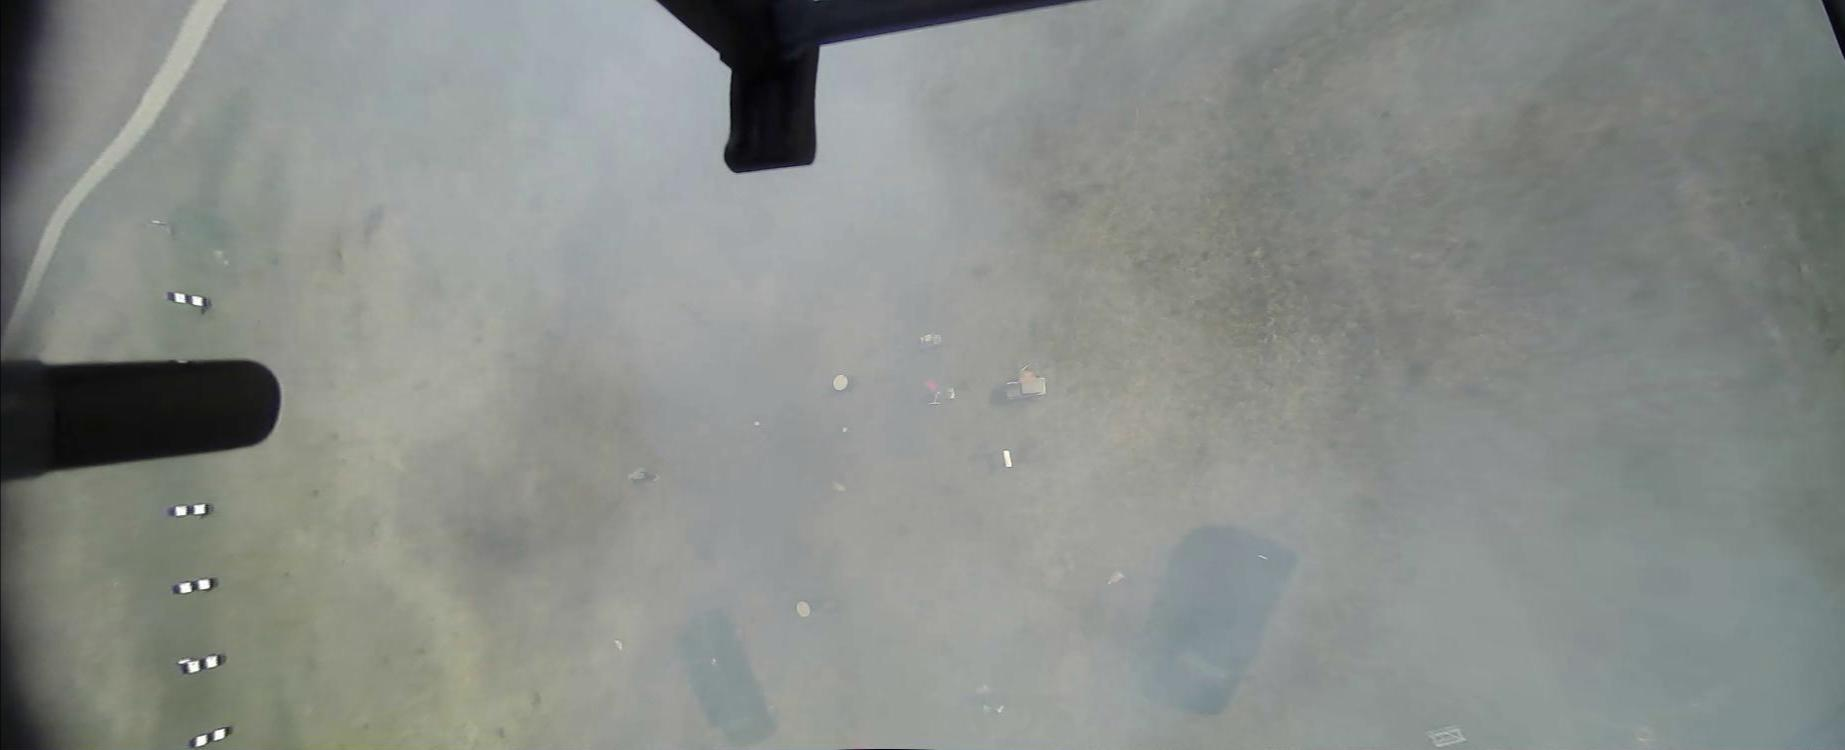vehicle: (1161, 536, 1299, 717), (679, 629, 779, 746)
